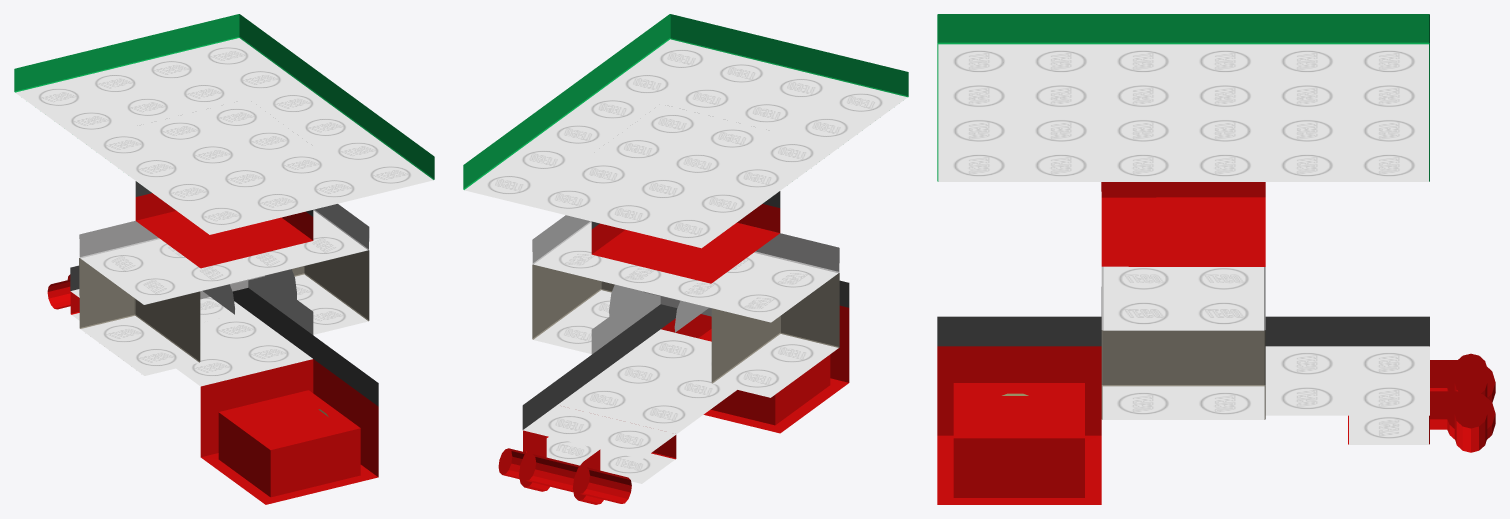
3 renders of one model, left to right at view 1: azimuth 30°, elevation 25°; view 2: azimuth 150°, elevation 25°; view 3: azimuth 270°, elevation 25°, orthographic. The views are drawn at different scales.
Visible parts, largest first — view 1: 004_OC_1289_PART_1, 017_OC_128900_Pivot, 011_OC_1289_PART_3, 007_OC_1289_PART_2, 023_L_254000_Pivot_RE; view 2: 004_OC_1289_PART_1, 017_OC_128900_Pivot, 011_OC_1289_PART_3, 007_OC_1289_PART_2, 023_L_254000_Pivot_RE, 021_L_254000_Base_RE; view 3: 004_OC_1289_PART_1, 017_OC_128900_Pivot, 011_OC_1289_PART_3, 007_OC_1289_PART_2, 023_L_254000_Pivot_RE, 021_L_254000_Base_RE.
Part boxes in pixels (x1,y1,x2,y2): 004_OC_1289_PART_1: (14,14,434,268); 017_OC_128900_Pivot: (70,265,378,504); 011_OC_1289_PART_3: (79,250,369,375); 007_OC_1289_PART_2: (79,204,369,304); 023_L_254000_Pivot_RE: (47,274,70,309); 004_OC_1289_PART_1: (463,14,908,283); 017_OC_128900_Pivot: (522,280,849,459); 011_OC_1289_PART_3: (532,264,839,397); 007_OC_1289_PART_2: (532,215,839,322); 023_L_254000_Pivot_RE: (498,436,631,504); 021_L_254000_Base_RE: (523,430,676,483); 004_OC_1289_PART_1: (937,14,1429,266); 017_OC_128900_Pivot: (937,287,1429,504); 011_OC_1289_PART_3: (1101,330,1265,419); 007_OC_1289_PART_2: (1101,266,1265,330); 023_L_254000_Pivot_RE: (1430,353,1495,452); 021_L_254000_Base_RE: (1348,415,1429,444).
Bounding box in the file's own units: 3.2 × 4.28 × 5.44.
Materials: 10 (2 with a texture image).
